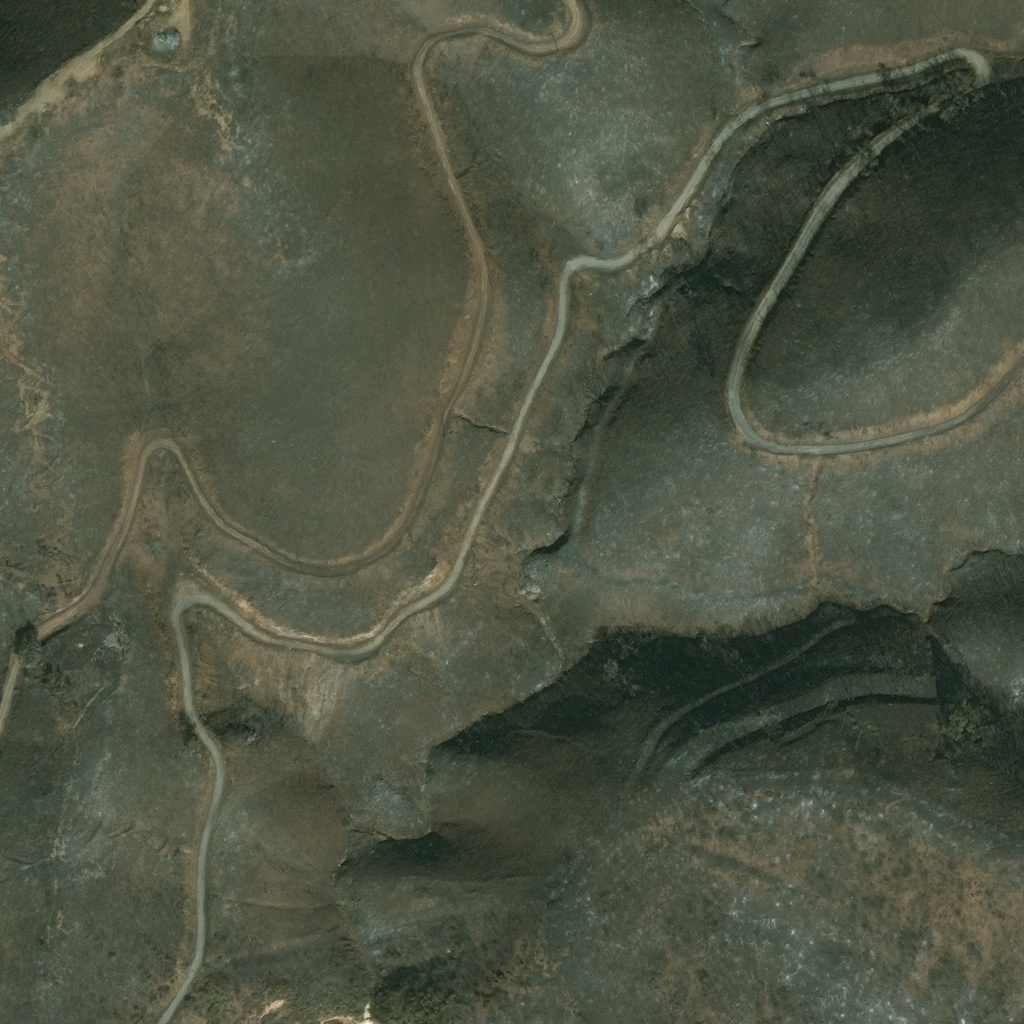3 destroyed: (102, 632, 119, 648), (155, 28, 176, 38), (57, 574, 71, 580)
